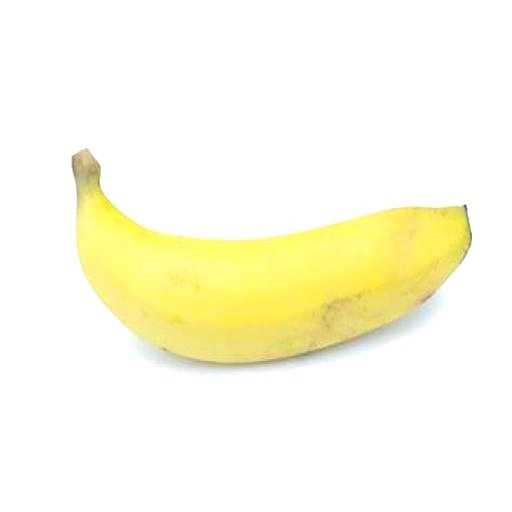fruit: (73, 150, 471, 362)
